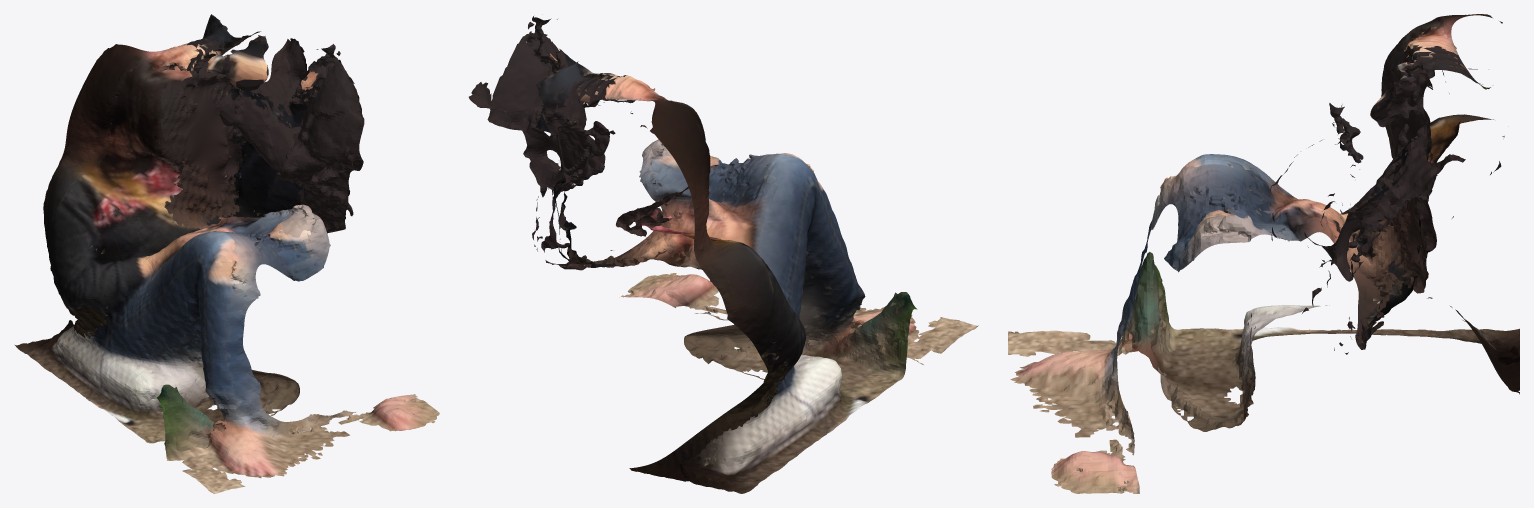
3 views of the same model, side by side, from view 1: azimuth 30°, elevation 25°; view 2: azimuth 150°, elevation 25°; view 3: azimuth 270°, elevation 25° (orthographic). The views are drawn at different scales.
Size of the model in its own units: 0.642 by 0.718 by 0.8703.
1 material, 1 textured.
